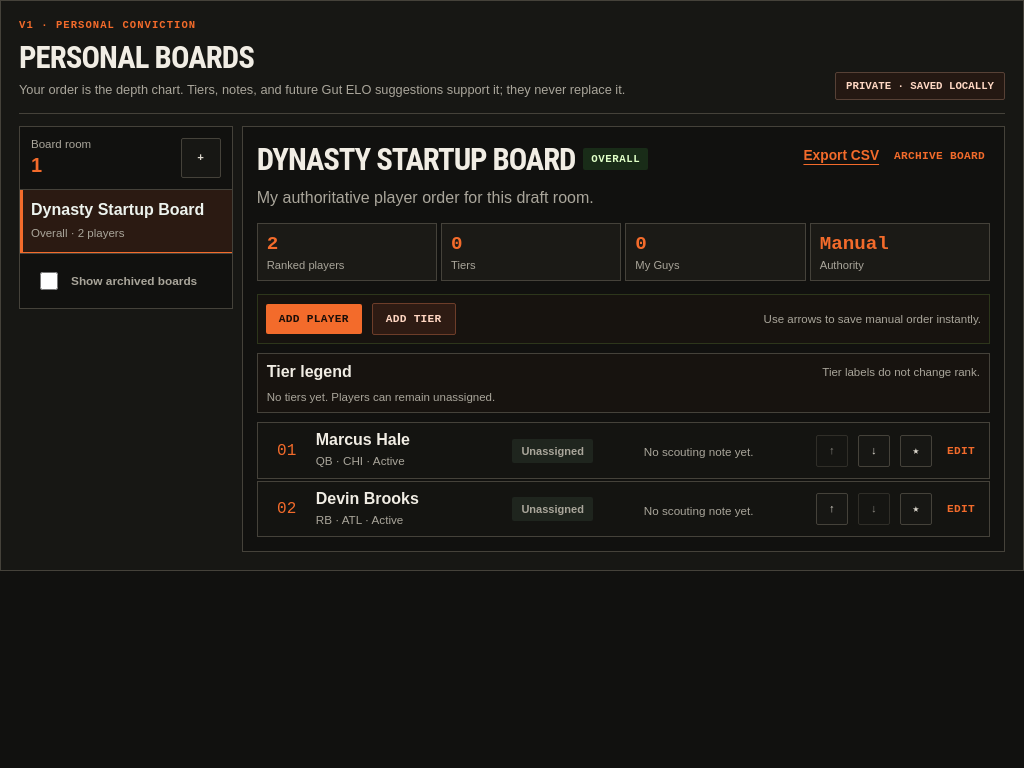
BoardWorkspace › sends the complete manual order when a player moves
This screenshot has width=1024, height=768.
Step 1. Click the button named "Move Marcus Hale down" → (874, 450), box [858,434,890,466]
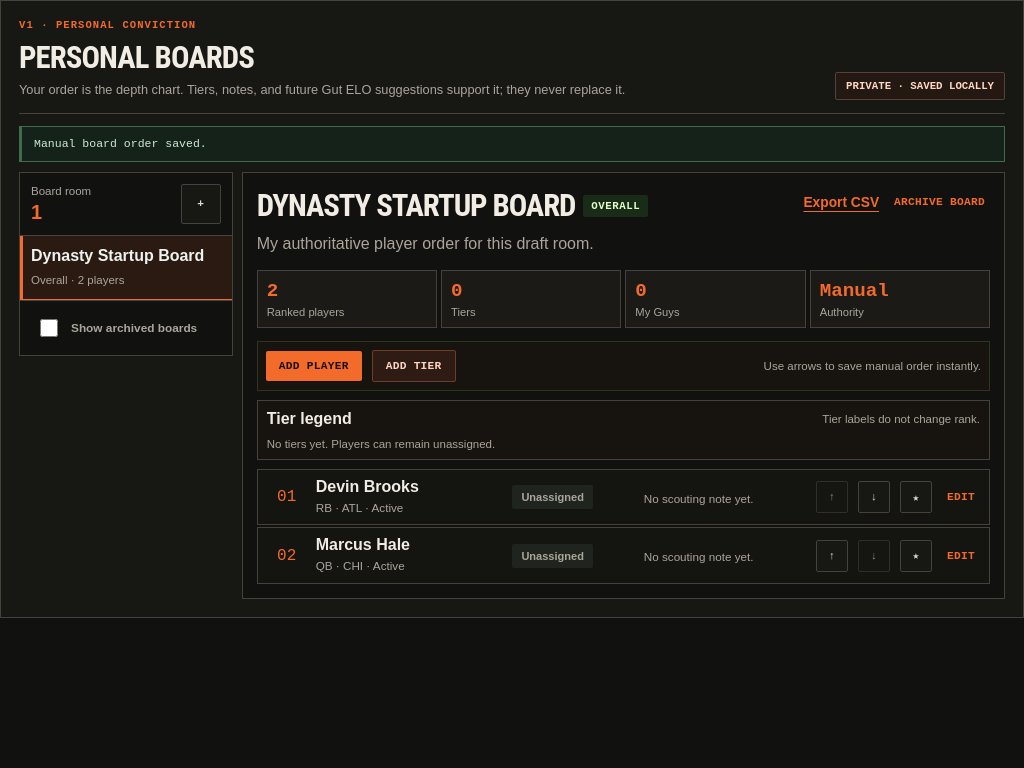
Expected: the text "Manual board order saved." is shown, [19,126,1005,162]
Expected: the list item that starts with "Devin Brooks" is shown, [316,478,419,495]
